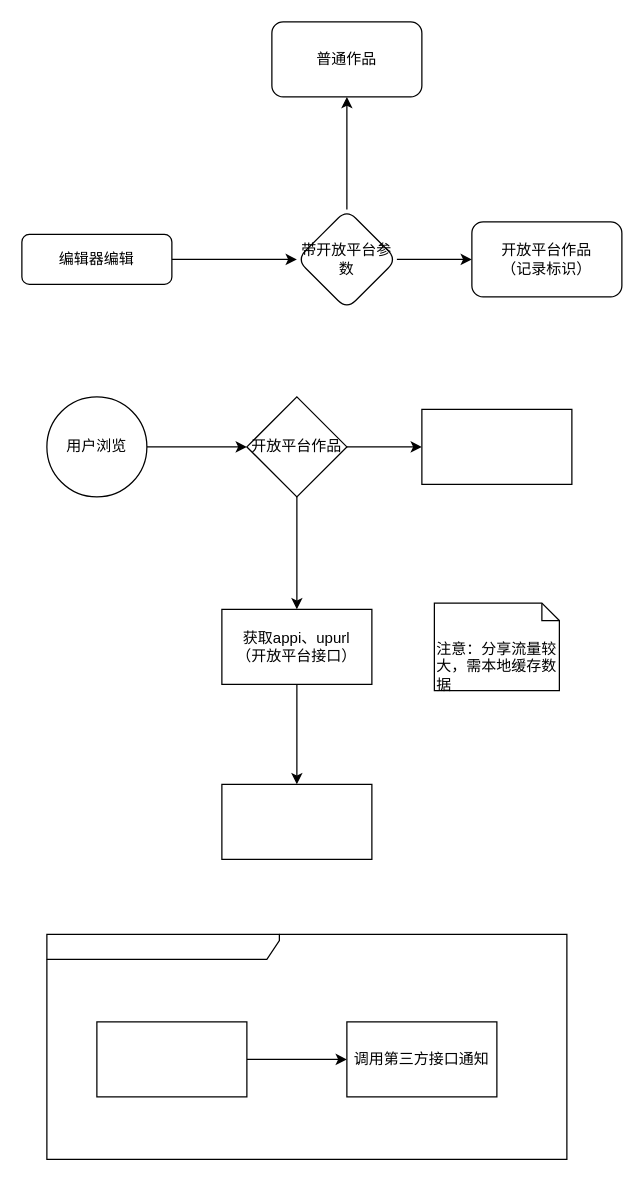
This 644x1181 diagram has some shape labels left out. The box of each missing label's shape, as (x1, y1, x2, y2) in pixels:
前端设置js对象字段 （ window.scene ）: (221, 783, 372, 859)
大数据 js SDK（浏览器中）: (46, 933, 567, 1159)
无处理: (421, 408, 572, 484)
获取相关参数: (96, 1021, 247, 1097)
